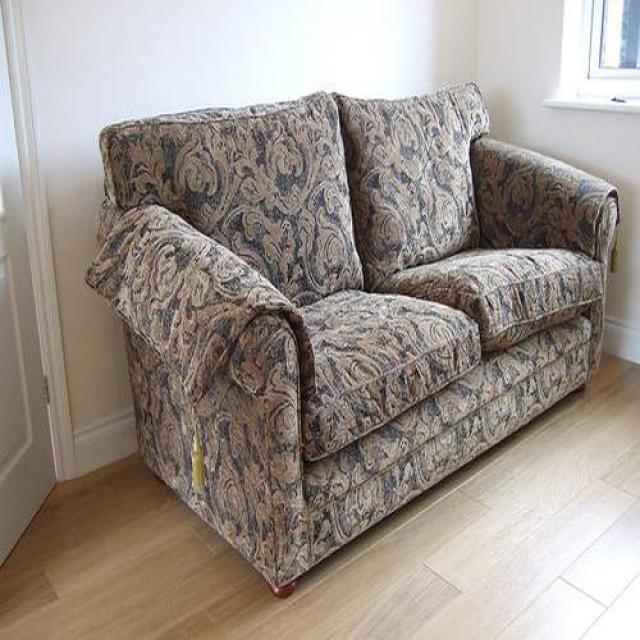sofa: (84, 84, 620, 595)
